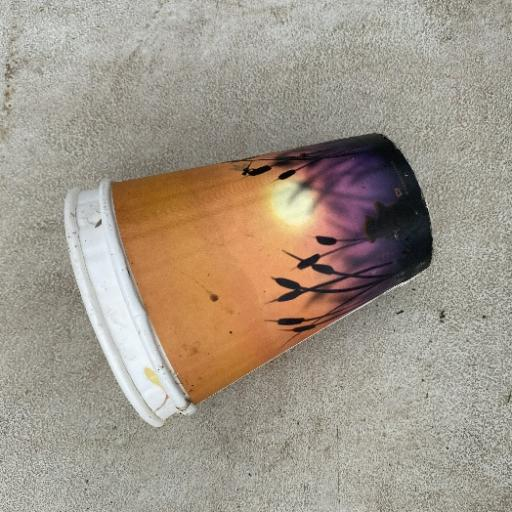Cardboard: (61, 130, 435, 428)
